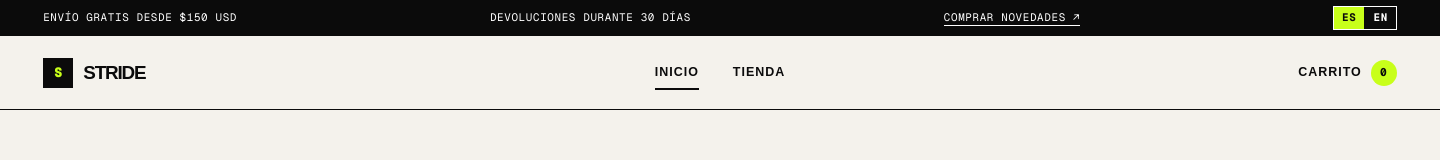
Test: language switch › switches every visible string to English and remembers the choice
This screenshot has width=1440, height=160.
What coordinates should you click on to do the following:
click the button with aria-label "English"
I would click on:
 (1381, 18)
Its box is [1366,7,1396,29].
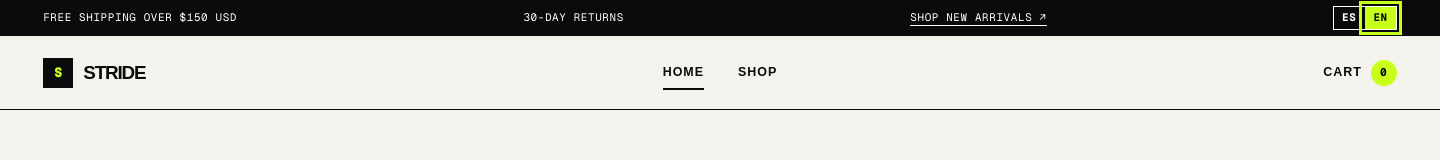
Check: the link "Shop" is shown, box [738,64,777,82]
Check: the link "Home" is shown, box [663,64,704,82]
What coordinates should you click on to do the following:
click the button with aria-label "Español"
I would click on:
 (1349, 18)
Its box is [1334,7,1364,29].
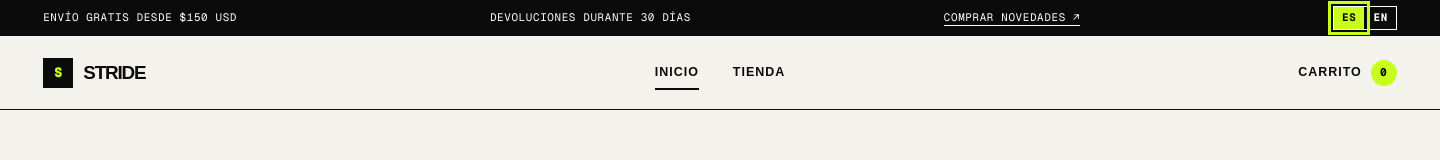
Check: the link "Inicio" is shown, box [655,64,699,82]
